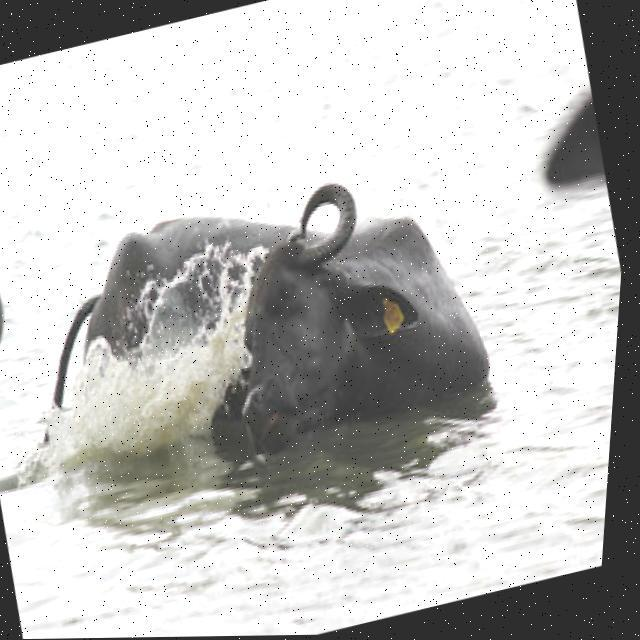Buffalo: (0, 133, 516, 516)
